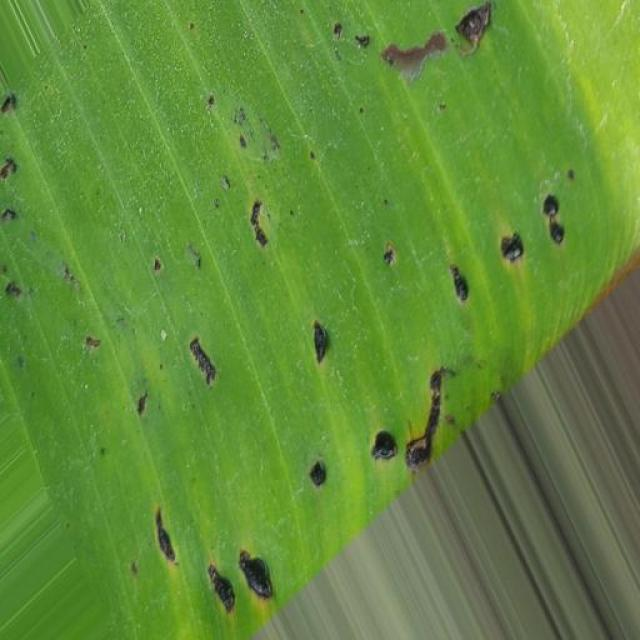Black_rot: (2, 200, 467, 631), (0, 76, 317, 240), (416, 164, 640, 291), (296, 1, 576, 84)
